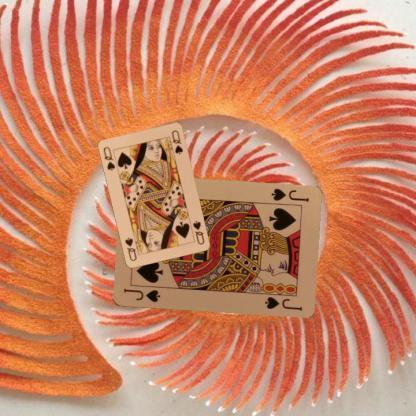Js: (121, 285, 162, 304), (268, 186, 310, 204)
Qs: (101, 144, 117, 172), (190, 219, 206, 246)
